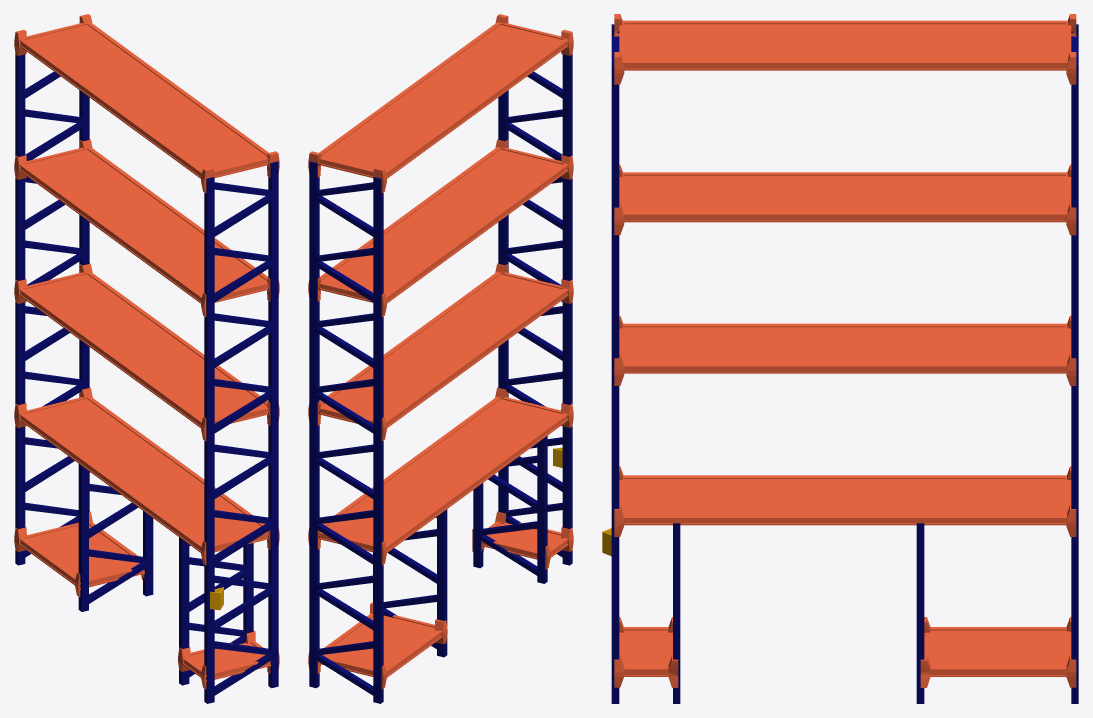
Rendered from WareHouse-Rack-Hole-1.glb.
The picture shows the model from 3 angles, left to right: view 1: azimuth 30°, elevation 25°; view 2: azimuth 150°, elevation 25°; view 3: azimuth 270°, elevation 25°; orthographic projection. The views are drawn at different scales.
Parts seen in each view (by area): view 1: Plane.838, RackSide, ShelfHolder.001; view 2: Plane.838, RackSide, ShelfHolder.001; view 3: Plane.838, RackSide, ShelfHolder.001.
Part boxes in pixels (x1,y1,x2,y2): Plane.838: [19, 22, 271, 681]; RackSide: [15, 54, 278, 703]; ShelfHolder.001: [14, 14, 279, 689]; Plane.838: [319, 22, 568, 677]; RackSide: [309, 54, 572, 703]; ShelfHolder.001: [308, 14, 573, 689]; Plane.838: [619, 20, 1071, 676]; RackSide: [611, 24, 1078, 703]; ShelfHolder.001: [614, 14, 1076, 687].
Size of the model in its own units: 2.11 by 14.22 by 9.49.
